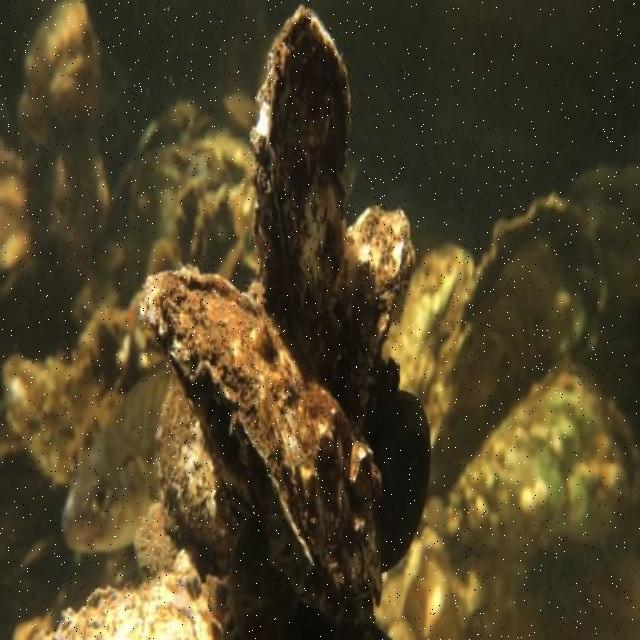Oyster-Closed: (142, 263, 387, 612), (446, 200, 603, 478), (256, 3, 354, 400), (455, 375, 640, 563), (26, 0, 104, 306), (342, 205, 419, 425), (576, 170, 640, 431), (160, 369, 238, 567), (398, 239, 471, 429), (0, 356, 83, 490), (0, 138, 35, 301)
